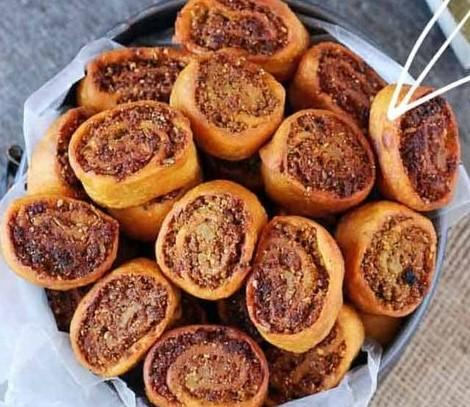bhakarwadi: (0, 0, 457, 404)
